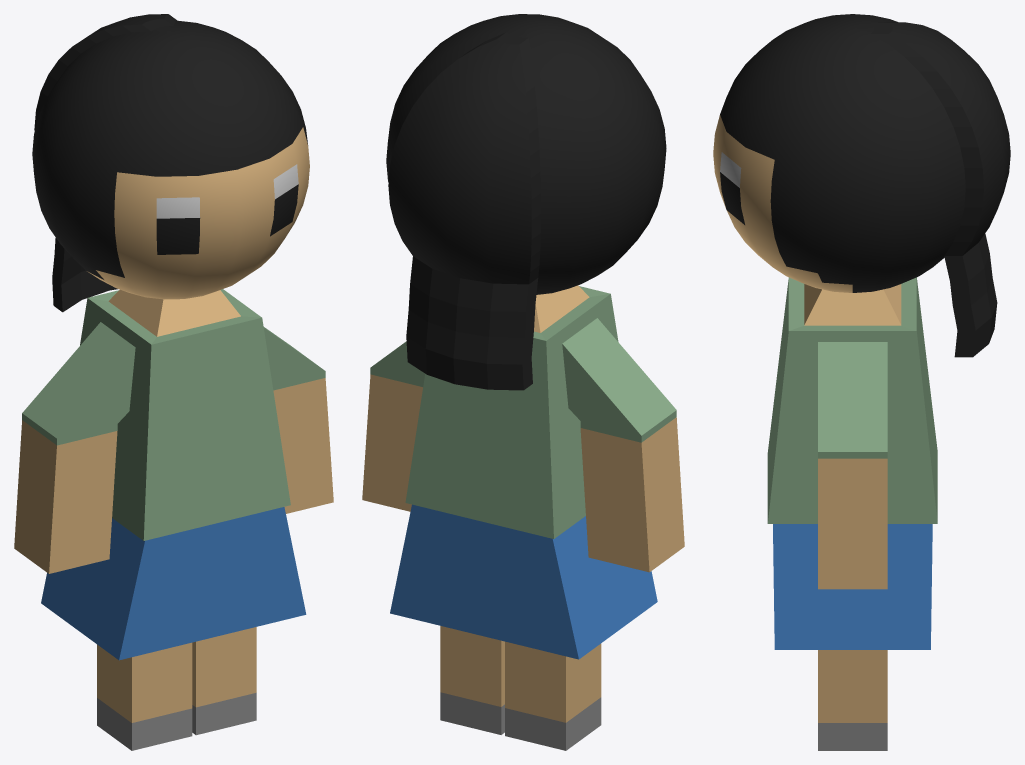
Rendered from FemaleNPC.fbx.
The picture shows the model from 3 angles, left to right: view 1: azimuth 30°, elevation 25°; view 2: azimuth 150°, elevation 25°; view 3: azimuth 270°, elevation 25°; orthographic projection.
Parts seen in each view (by area): view 1: FemaleNpc_Body, FemaleNpc_LeftArm, FemaleNpc_LeftLeg, FemaleNpc_RightArm, FemaleNpc_Rightleg; view 2: FemaleNpc_Body, FemaleNpc_LeftArm, FemaleNpc_LeftLeg, FemaleNpc_RightArm, FemaleNpc_Rightleg; view 3: FemaleNpc_Body, FemaleNpc_RightArm, FemaleNpc_Rightleg.
Part boxes in pixels (x1,y1,x2,y2): FemaleNpc_Body: [32, 14, 309, 660]; FemaleNpc_LeftArm: [14, 322, 135, 573]; FemaleNpc_LeftLeg: [97, 642, 192, 750]; FemaleNpc_RightArm: [263, 327, 333, 513]; FemaleNpc_Rightleg: [192, 627, 256, 735]; FemaleNpc_Body: [386, 14, 666, 659]; FemaleNpc_LeftArm: [562, 318, 684, 572]; FemaleNpc_LeftLeg: [505, 641, 601, 750]; FemaleNpc_RightArm: [362, 341, 424, 511]; FemaleNpc_Rightleg: [440, 626, 504, 734]; FemaleNpc_Body: [713, 14, 1010, 649]; FemaleNpc_RightArm: [818, 342, 887, 589]; FemaleNpc_Rightleg: [818, 650, 887, 750].
Bounding box in the file's own units: 2.36 × 5.46 × 2.13.
